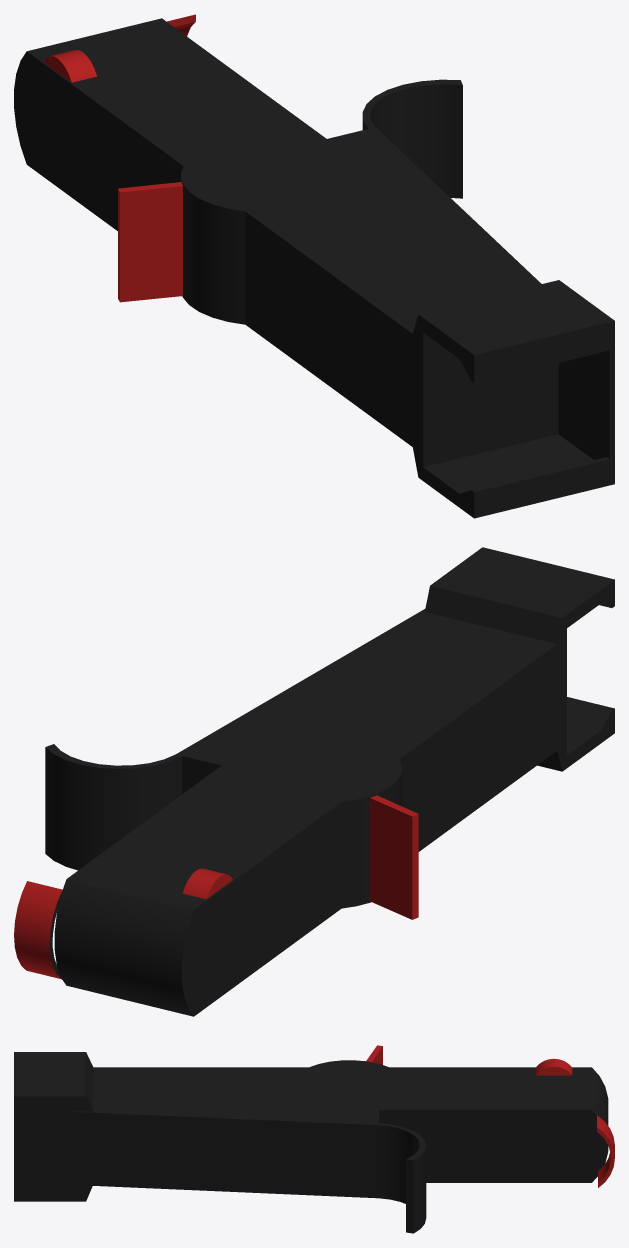
The picture shows the model from 3 angles, top to bottom: view 1: azimuth 30°, elevation 25°; view 2: azimuth 150°, elevation 25°; view 3: azimuth 270°, elevation 25°; orthographic projection. The views are drawn at different scales.
Parts seen in each view (by area): view 1: black low gloss plastic, red medium gloss plastic, red low gloss plastic; view 2: black low gloss plastic, red medium gloss plastic, red low gloss plastic; view 3: black low gloss plastic, red medium gloss plastic, red low gloss plastic.
Part boxes in pixels (left/top/right/bottom): black low gloss plastic: left=14, top=18, right=614, bottom=518; red medium gloss plastic: left=118, top=14, right=195, bottom=302; red low gloss plastic: left=43, top=50, right=182, bottom=192; black low gloss plastic: left=45, top=547, right=614, bottom=1016; red medium gloss plastic: left=14, top=798, right=418, bottom=979; red low gloss plastic: left=182, top=795, right=417, bottom=899; black low gloss plastic: left=14, top=1052, right=608, bottom=1233; red medium gloss plastic: left=372, top=1046, right=614, bottom=1187; red low gloss plastic: left=366, top=1045, right=572, bottom=1075.
Bounding box in the file's own units: 6.81 × 2.88 × 14.89.
